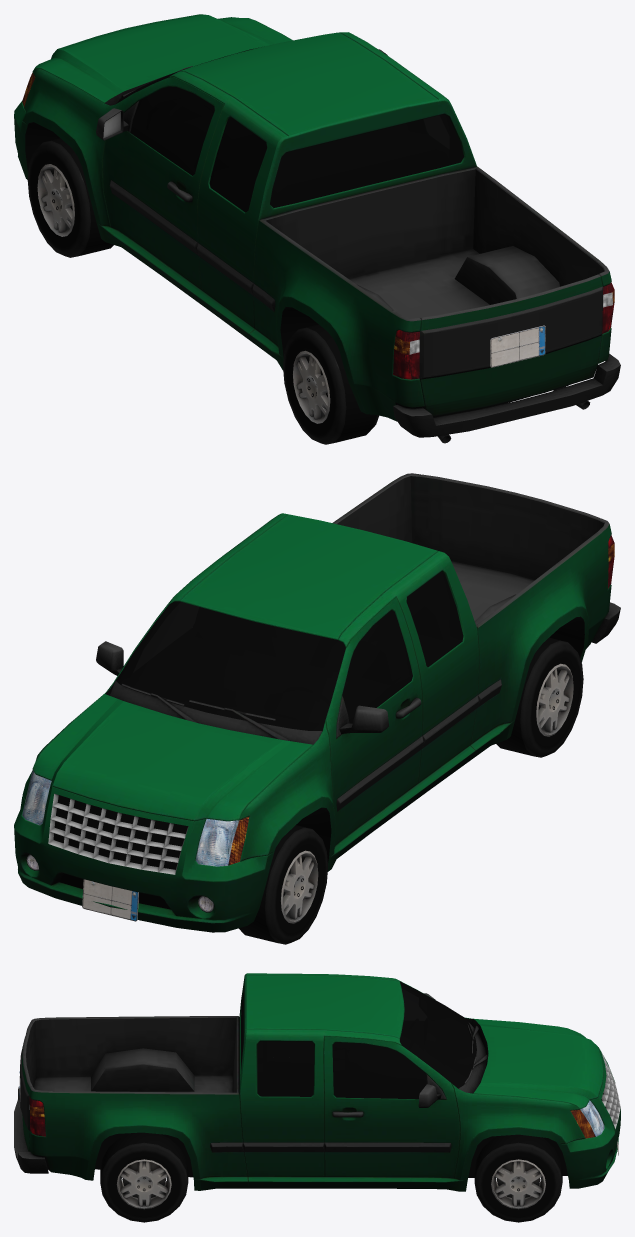
File: pickup.glb
The picture shows the model from 3 angles, top to bottom: view 1: azimuth 30°, elevation 25°; view 2: azimuth 150°, elevation 25°; view 3: azimuth 270°, elevation 25°; orthographic projection. The views are drawn at different scales.
Visible parts, largest first — view 1: Pickup Body_Body_0, Pickup Body_Glass_0, Tire_RL_0, Tire_FL_0, Pickup Body_Optics_0, LicensePlate_Rear; view 2: Pickup Body_Body_0, Pickup Body_Glass_0, Tire_FL_0, Tire_RL_0, Pickup Body_Optics_0, LicensePlate_Front; view 3: Pickup Body_Body_0, Pickup Body_Glass_0, Tire_RR_0, Tire_FR_0, Pickup Body_Optics_0.
Boxes of the visible parts, bbox=[...] form: Pickup Body_Body_0: bbox=[14, 14, 620, 443]; Pickup Body_Glass_0: bbox=[116, 47, 464, 212]; Tire_RL_0: bbox=[283, 324, 378, 444]; Tire_FL_0: bbox=[27, 138, 113, 257]; Pickup Body_Optics_0: bbox=[22, 72, 614, 379]; LicensePlate_Rear: bbox=[490, 325, 545, 367]; Pickup Body_Body_0: bbox=[14, 473, 620, 932]; Pickup Body_Glass_0: bbox=[115, 571, 463, 730]; Tire_FL_0: bbox=[239, 825, 328, 944]; Tire_RL_0: bbox=[496, 637, 583, 757]; Pickup Body_Optics_0: bbox=[22, 535, 614, 912]; LicensePlate_Front: bbox=[82, 879, 138, 921]; Pickup Body_Body_0: bbox=[14, 973, 620, 1191]; Pickup Body_Glass_0: bbox=[241, 981, 476, 1099]; Tire_RR_0: bbox=[100, 1132, 188, 1222]; Tire_FR_0: bbox=[474, 1134, 562, 1222]; Pickup Body_Optics_0: bbox=[29, 1097, 604, 1138].
Bounding box in the file's own units: 2.07 × 1.7 × 5.18.
6 materials, 4 textured.
